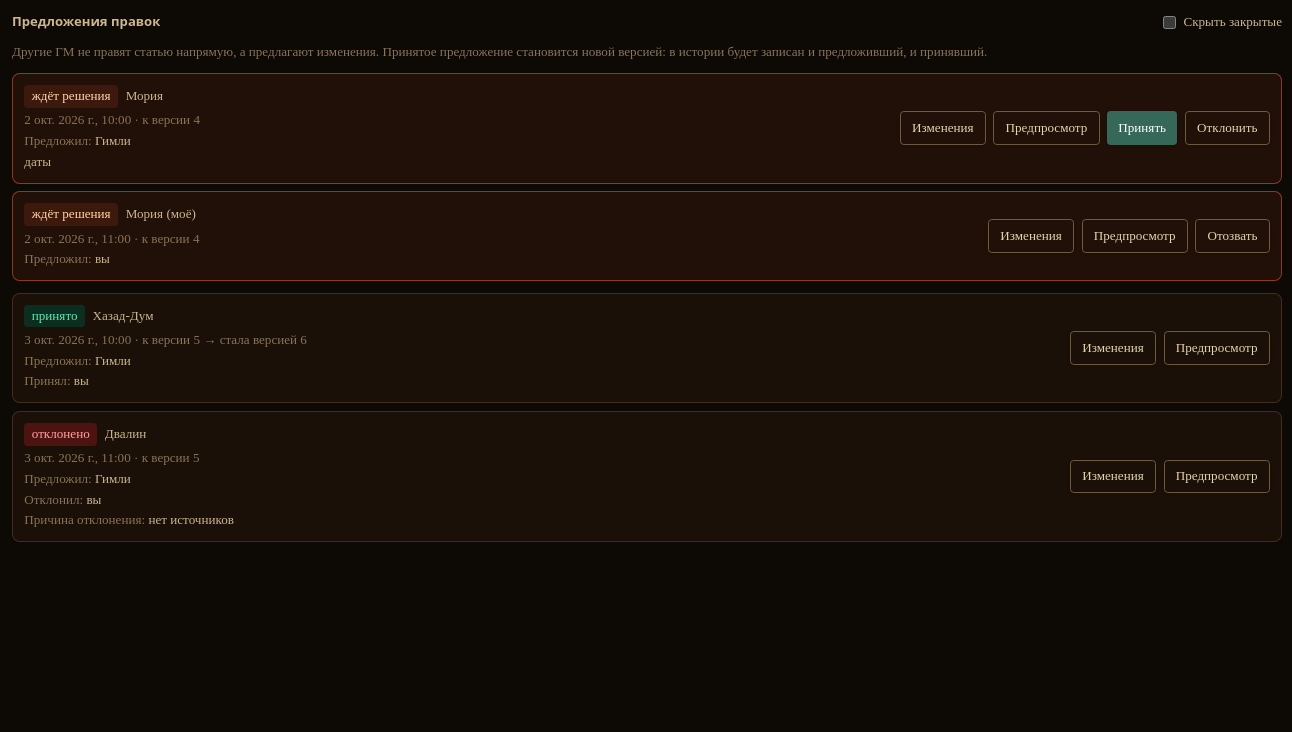
ArticleProposals › can hide closed proposals
Step 1. Click the checkbox labelled "Скрыть закрытые" → x=1170, y=22, box 1163,16 -> 1176,29
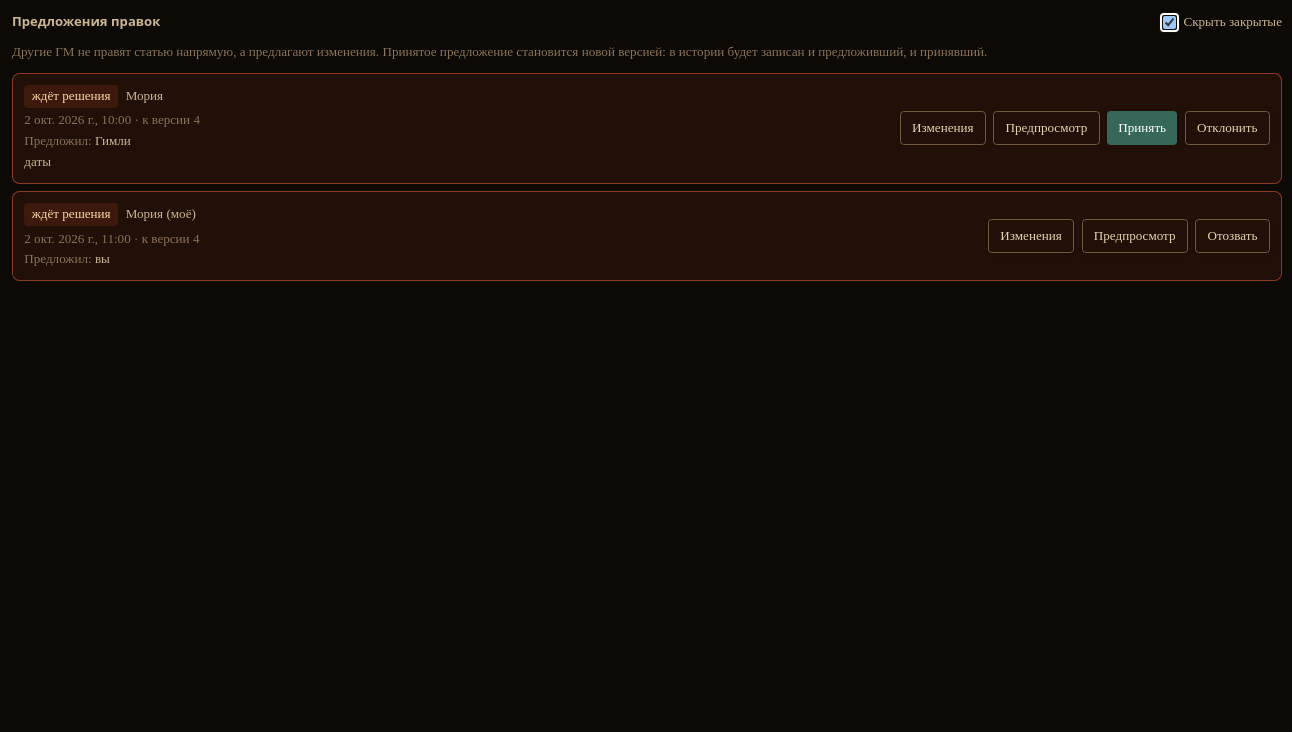
Result: the text "Хазад-Дум" is gone
Result: the number of list items is 2 at 12,73 -> 1282,184; 12,191 -> 1282,281
